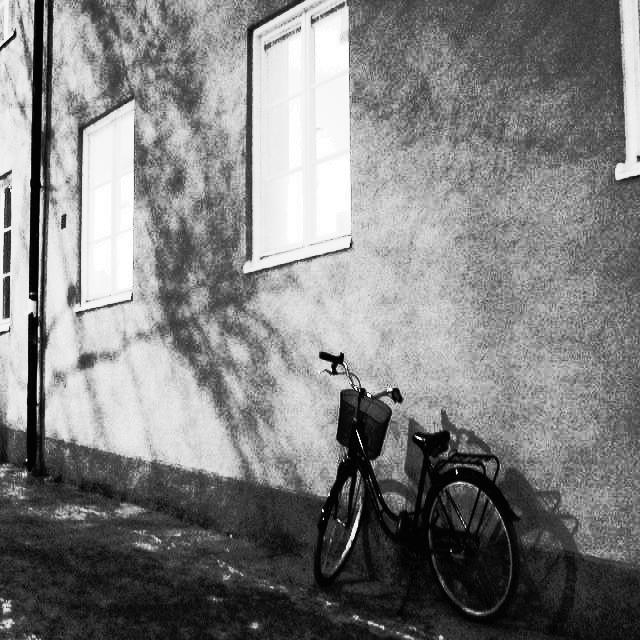Bicycle: (310, 342, 513, 637)
